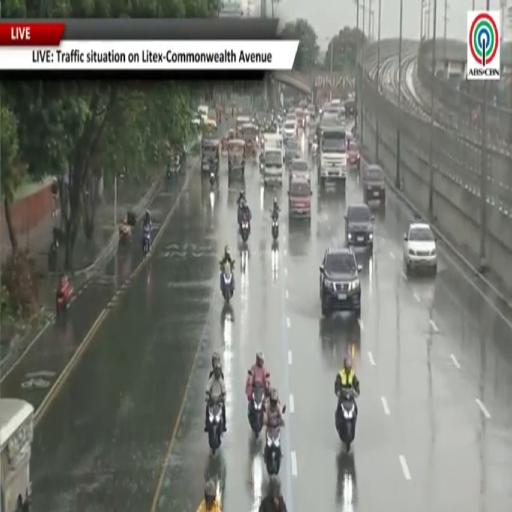car: (320, 245, 362, 317), (403, 222, 437, 275), (345, 204, 374, 250), (288, 173, 311, 219), (361, 165, 385, 203), (347, 132, 360, 169), (285, 138, 300, 164), (289, 158, 309, 174), (283, 121, 296, 137)
jeepney: (0, 398, 34, 511), (201, 137, 220, 173), (228, 139, 245, 178), (242, 123, 258, 156), (236, 116, 251, 138), (222, 129, 235, 153), (203, 119, 217, 137)
motorcycle: (336, 389, 356, 451), (207, 399, 223, 454), (264, 427, 282, 475), (249, 382, 264, 438), (56, 278, 73, 317), (221, 263, 234, 302), (119, 222, 132, 245), (240, 217, 250, 243), (209, 161, 217, 187), (143, 230, 150, 257), (271, 216, 278, 241), (210, 171, 215, 186)
truck: (317, 121, 347, 184)
